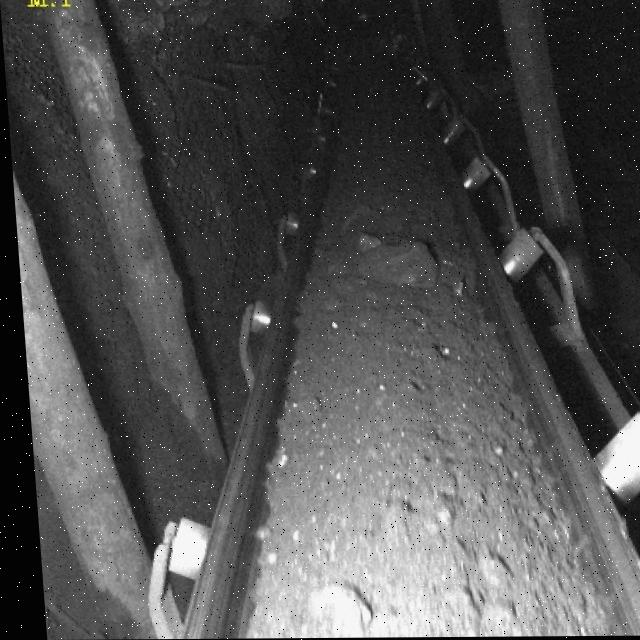large_sized_coal: (351, 243, 441, 289), (296, 580, 360, 635)
